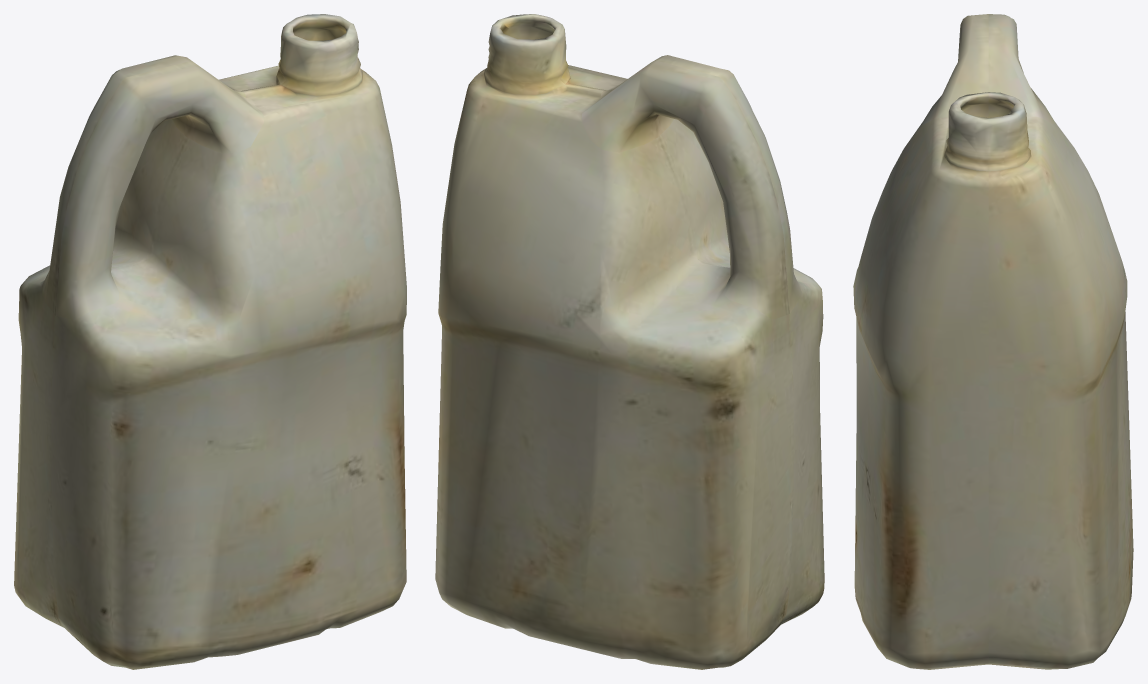
Rendered from kanister_mleka.glb.
3 renders of one model, left to right at view 1: azimuth 30°, elevation 25°; view 2: azimuth 150°, elevation 25°; view 3: azimuth 270°, elevation 25°, orthographic.
Parts seen in each view (by area): view 1: plastic_bottle_gallon; view 2: plastic_bottle_gallon; view 3: plastic_bottle_gallon.
Part boxes in pixels (x1,y1,x2,y2): plastic_bottle_gallon: (14, 14, 406, 669); plastic_bottle_gallon: (435, 14, 824, 669); plastic_bottle_gallon: (853, 14, 1133, 669).
Size of the model in its own units: 0.1662 by 0.2745 by 0.1259.
Materials: 1 (1 with a texture image).
